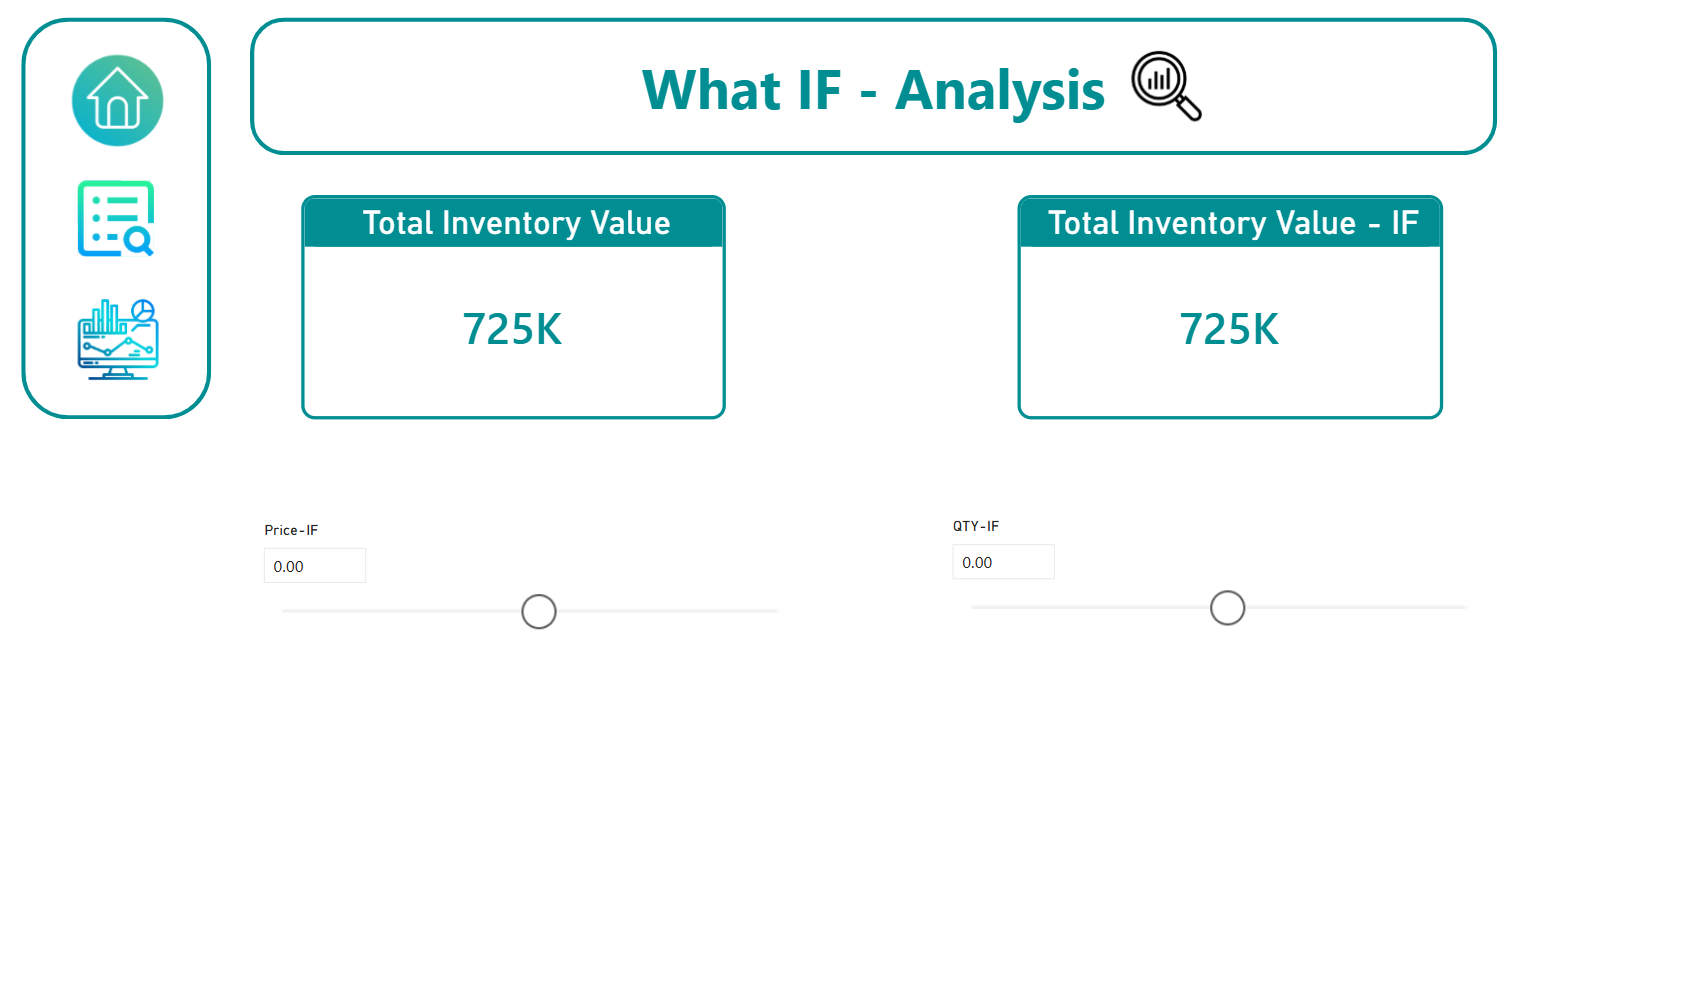

Layout of this report page (visuals, bound fields, positions):
{"tool":"powerbi","page":{"name":"What IF - Analysis","canvas":[1280,720],"ordinal":3},"visuals":[{"type":"shape","box":[185.2,12.3,907,100.2],"z":0},{"type":"slicer","fields":{"Values":["Price-IF.Price-IF"]},"box":[182.5,373.2,408.9,146.8],"z":1000},{"type":"slicer","fields":{"Values":["QTY-IF.QTY-IF"]},"box":[683.4,370.5,408.9,149.6],"z":2000},{"type":"cardVisual","title":"Total Inventory Value","fields":{"Data":["Sum(المخزون.إجمالي السعر)"]},"box":[222.7,141.8,308.5,163],"z":3000},{"type":"cardVisual","title":"Total Inventory Value - IF","fields":{"Data":["Price-IF.Sales-IF"]},"box":[743.9,141.8,309.7,163],"z":4000},{"type":"actionButton","box":[816.2,31.1,71.6,63.5],"z":5000},{"type":"shape","box":[18.7,12.4,138.1,292.3],"z":5002},{"type":"actionButton","box":[46,32.3,85.8,80.9],"z":5003},{"type":"actionButton","box":[54.7,126.9,67.2,63.4],"z":5004},{"type":"actionButton","box":[54.7,212.7,69.7,68.4],"z":5005}]}

Visuals, with their boxes in screenshot pixels (x1, y1, x2, y2), scaled from the page's 1280x720 canvas onto the 1697x981 screenshot:
shape: x1=246 y1=17 x2=1448 y2=153
slicer - Price-IF.Price-IF: x1=242 y1=508 x2=784 y2=708
slicer - QTY-IF.QTY-IF: x1=906 y1=505 x2=1448 y2=709
"Total Inventory Value" cardVisual: x1=295 y1=193 x2=704 y2=415
"Total Inventory Value - IF" cardVisual: x1=986 y1=193 x2=1397 y2=415
actionButton: x1=1082 y1=42 x2=1177 y2=129
shape: x1=25 y1=17 x2=208 y2=415
actionButton: x1=61 y1=44 x2=175 y2=154
actionButton: x1=73 y1=173 x2=162 y2=259
actionButton: x1=73 y1=290 x2=165 y2=383
